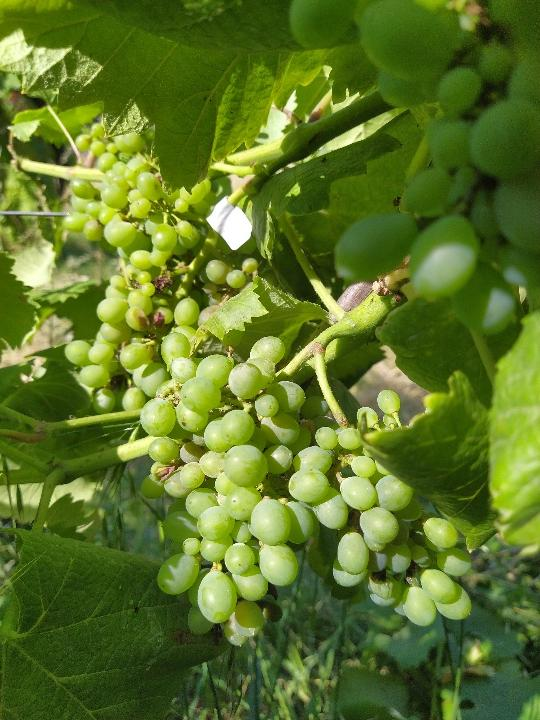grape: (136, 336, 477, 649)
